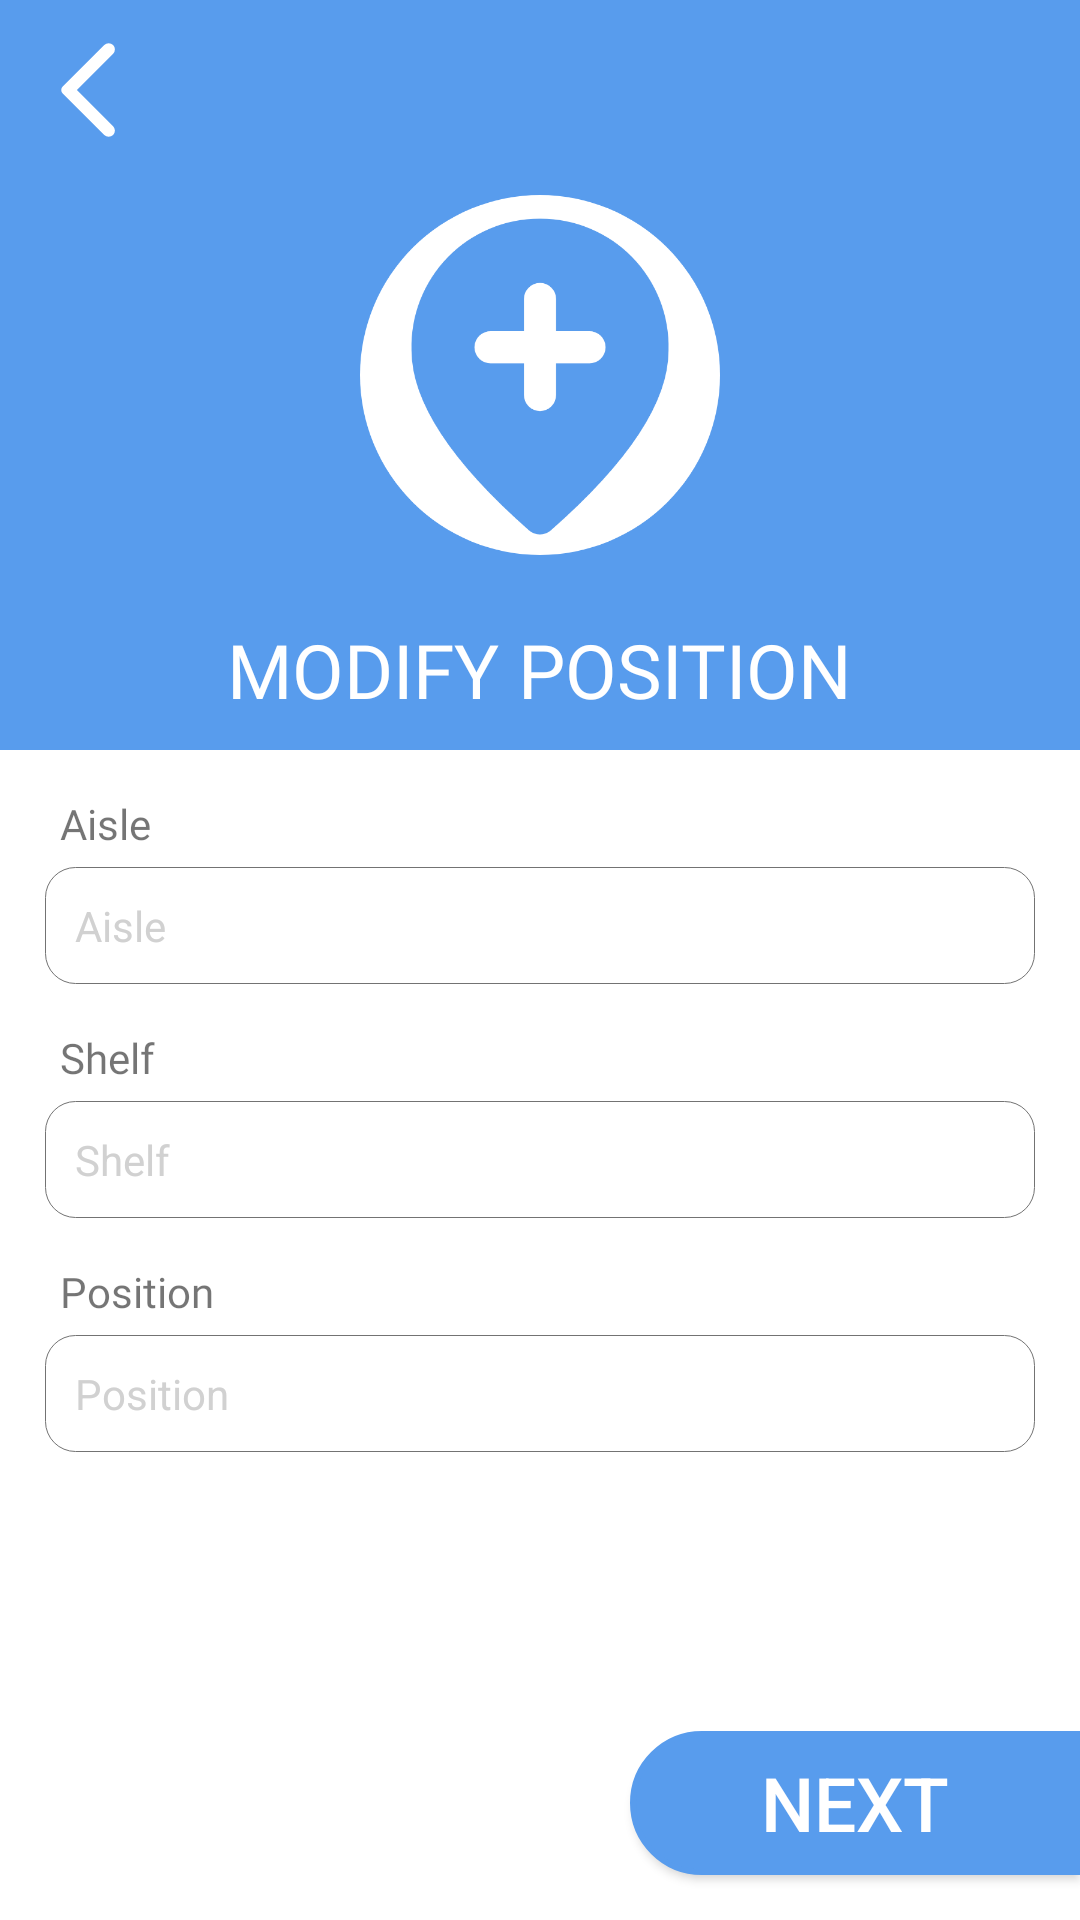

Icon click points for this 1080px×1920px phone screenshot, format [x,y]:
arrow back: [88,90]
location: [540,375]
